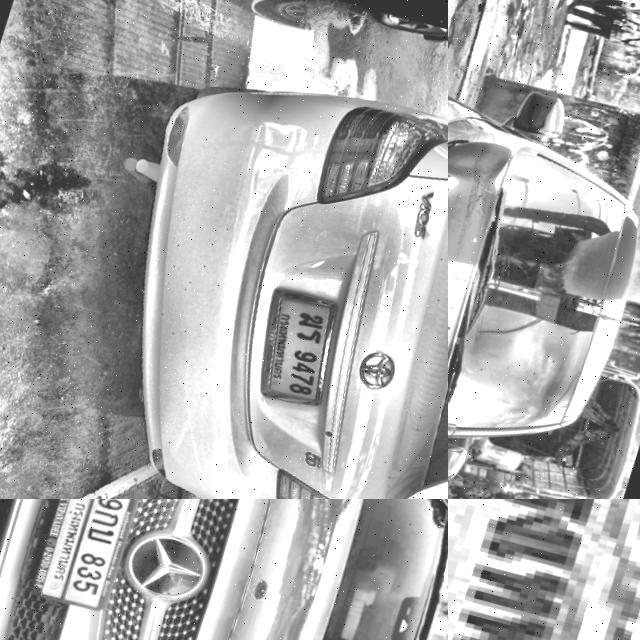license-plate: (448, 499, 640, 640), (244, 284, 357, 413), (27, 499, 141, 613)
